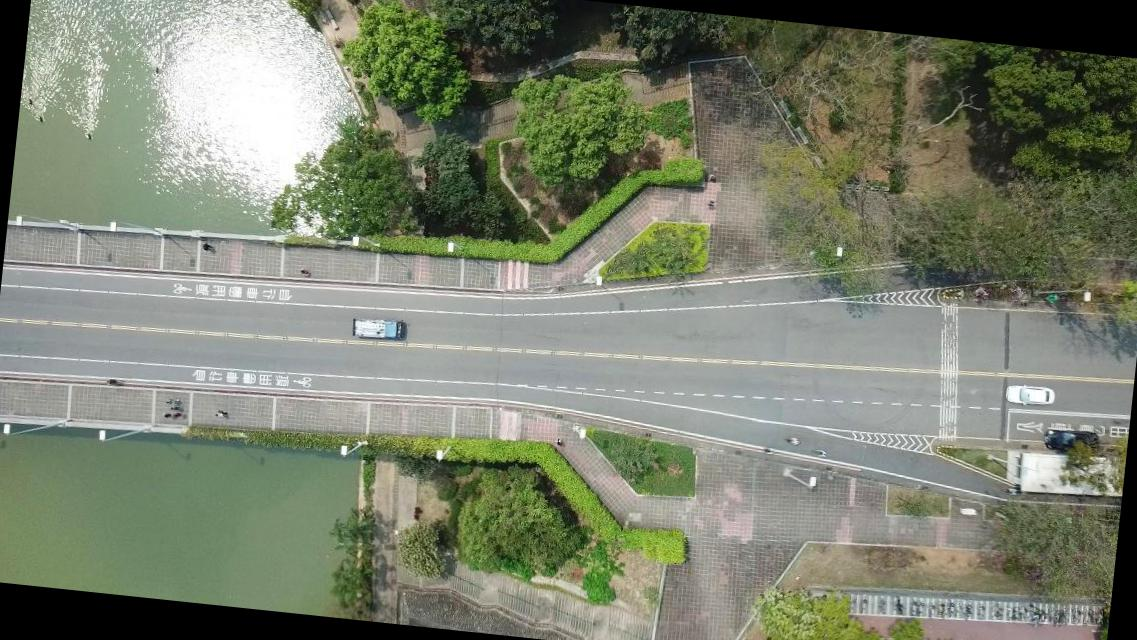vehicle: (351, 314, 405, 342), (1043, 427, 1099, 454), (1004, 382, 1056, 408)
